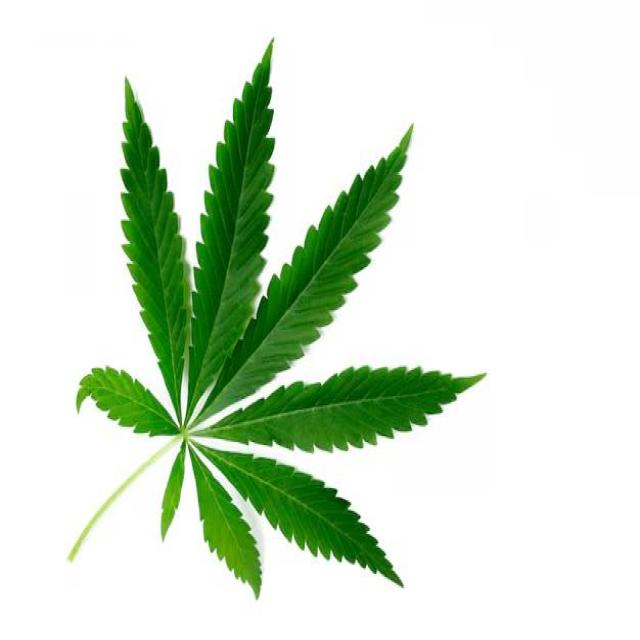cannabis: (64, 38, 485, 602)
